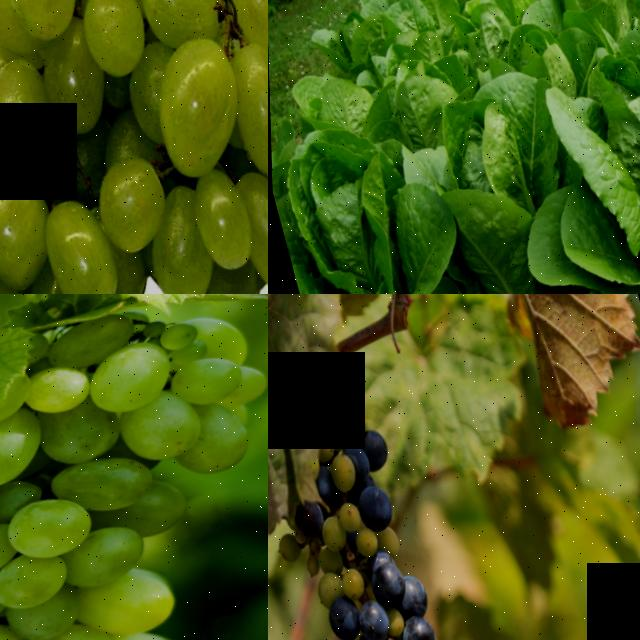grapes: (0, 320, 268, 640), (0, 0, 268, 294), (296, 492, 476, 640)
lettuce: (268, 86, 481, 294), (499, 29, 640, 294), (433, 0, 566, 90)
